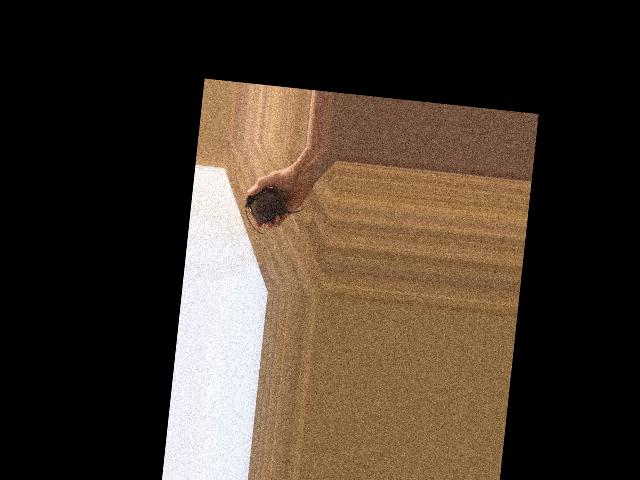beet: (241, 186, 305, 239)
